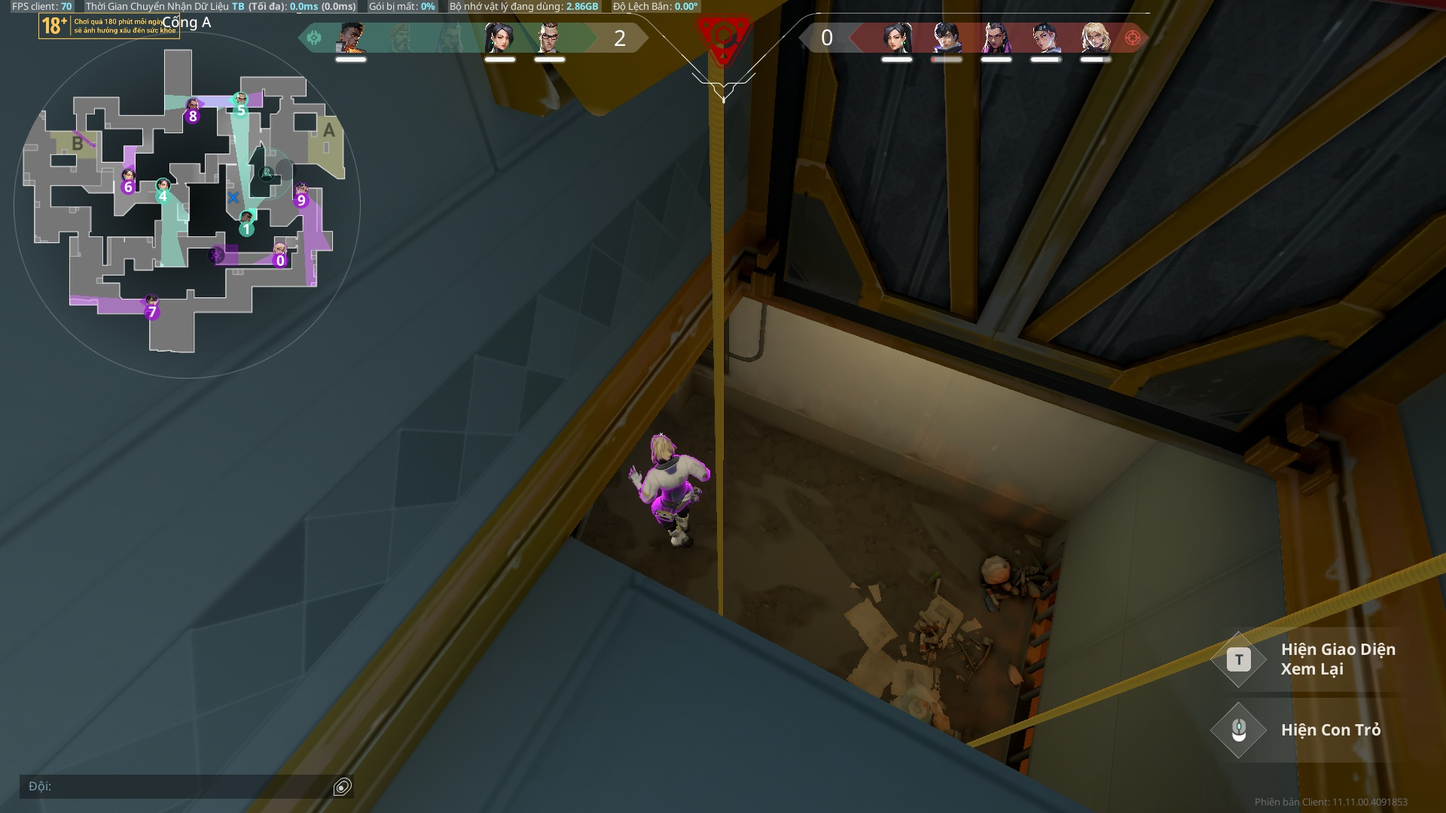body: (641, 463, 706, 507)
head: (647, 433, 677, 466)
